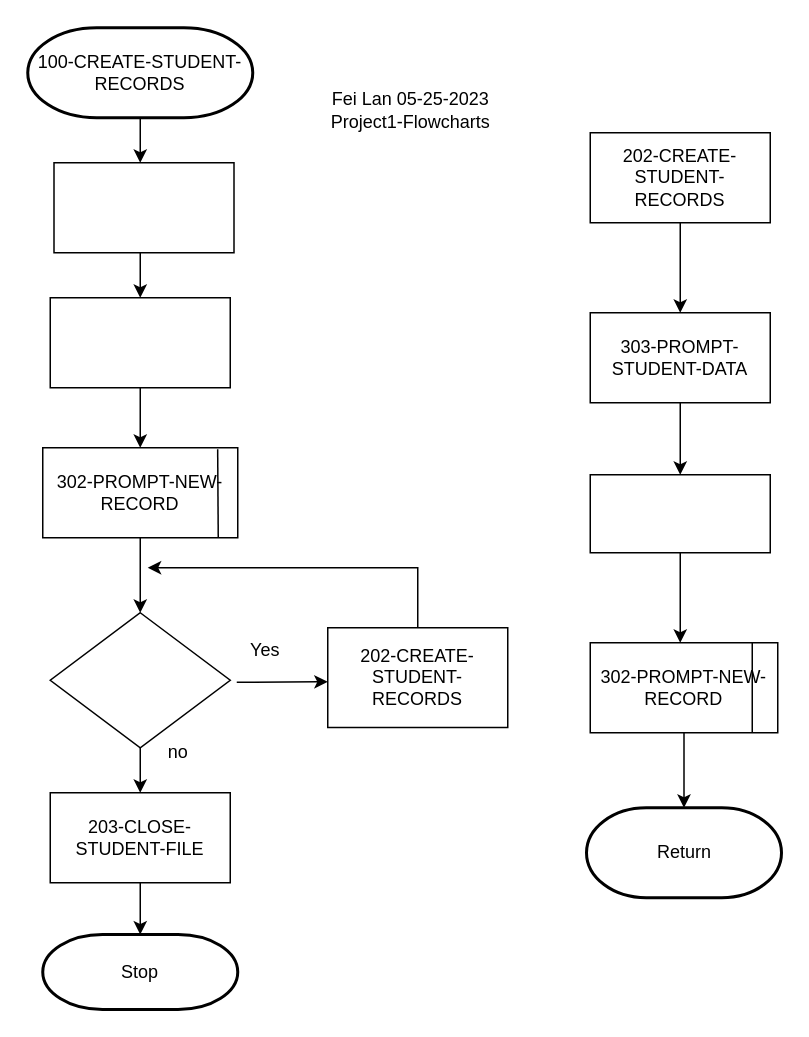
This 809x1037 diagram has some shape labels left out. The centre of each missing label's shape, as x and y in pixels:
"201-INITIALIZE-STUEDT-RECORDS" belongs at pixel 143 207.
"301-OPEN-STUDENT-FILE" belongs at pixel 139 342.
"304-WRITE-STUDENT-RECORD" belongs at pixel 679 513.
"NEW-RECORD-PROMPT" belongs at pixel 139 679.
